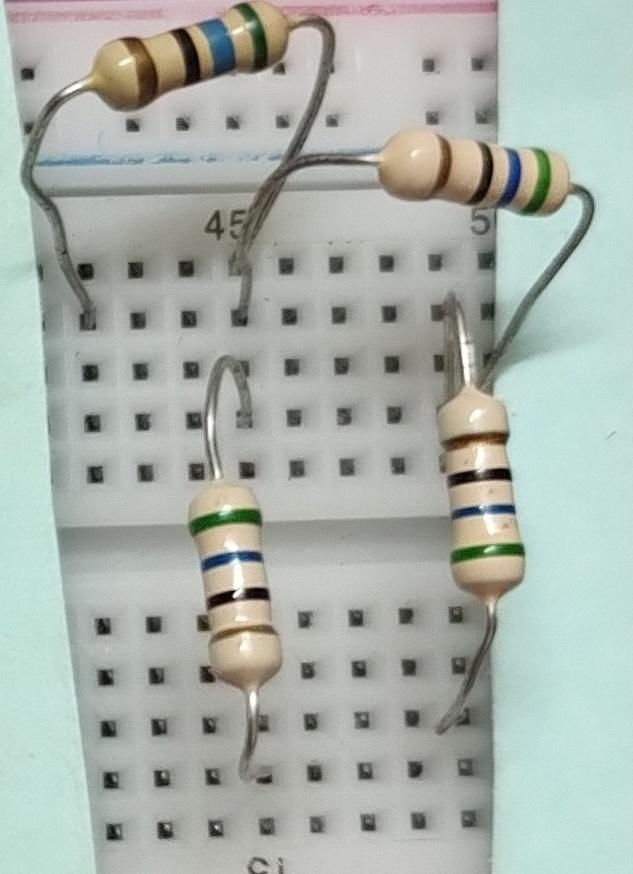resistor: (175, 459, 312, 699), (419, 377, 547, 614), (70, 0, 299, 123), (369, 112, 582, 225)
